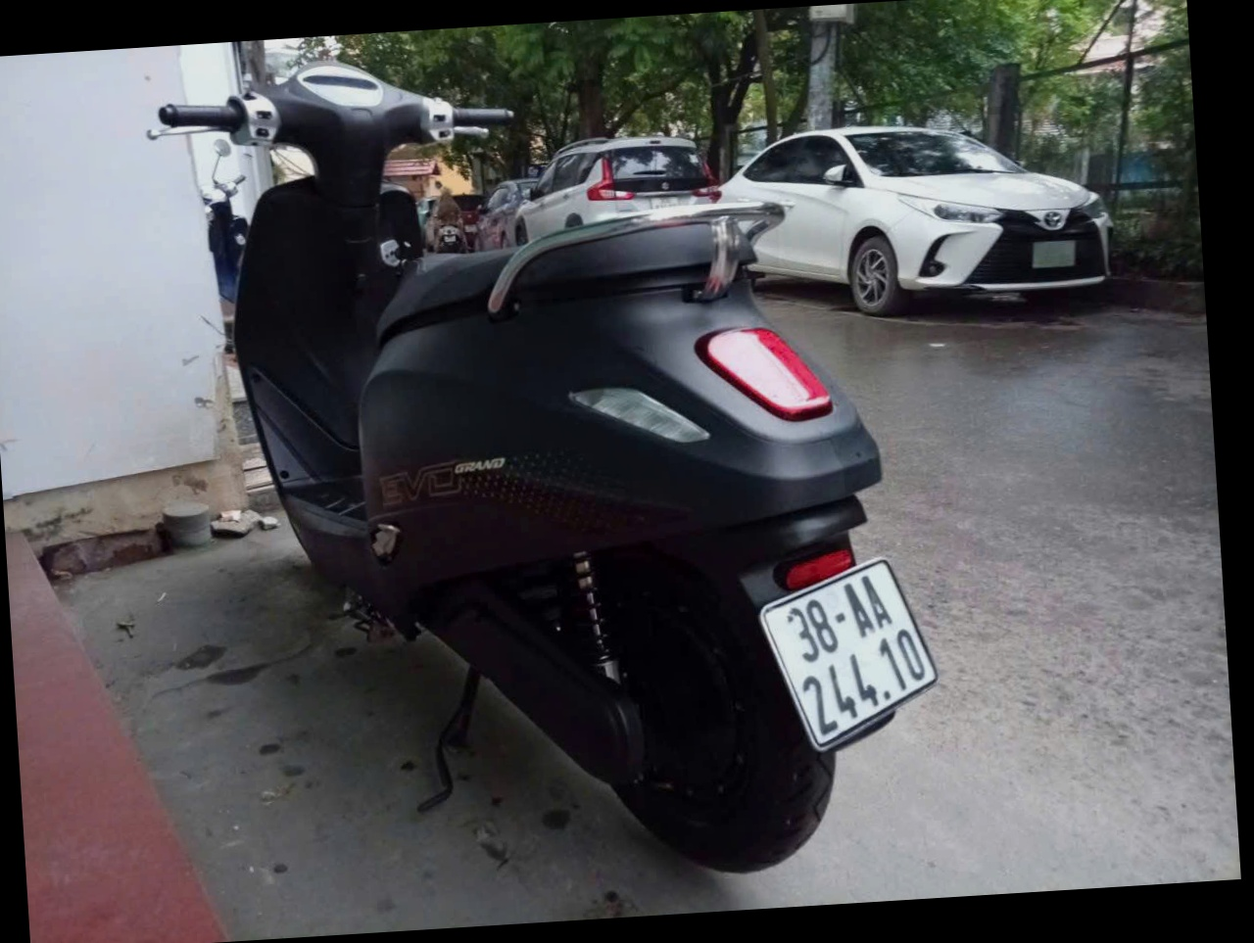Bien-so: (758, 552, 943, 760)
